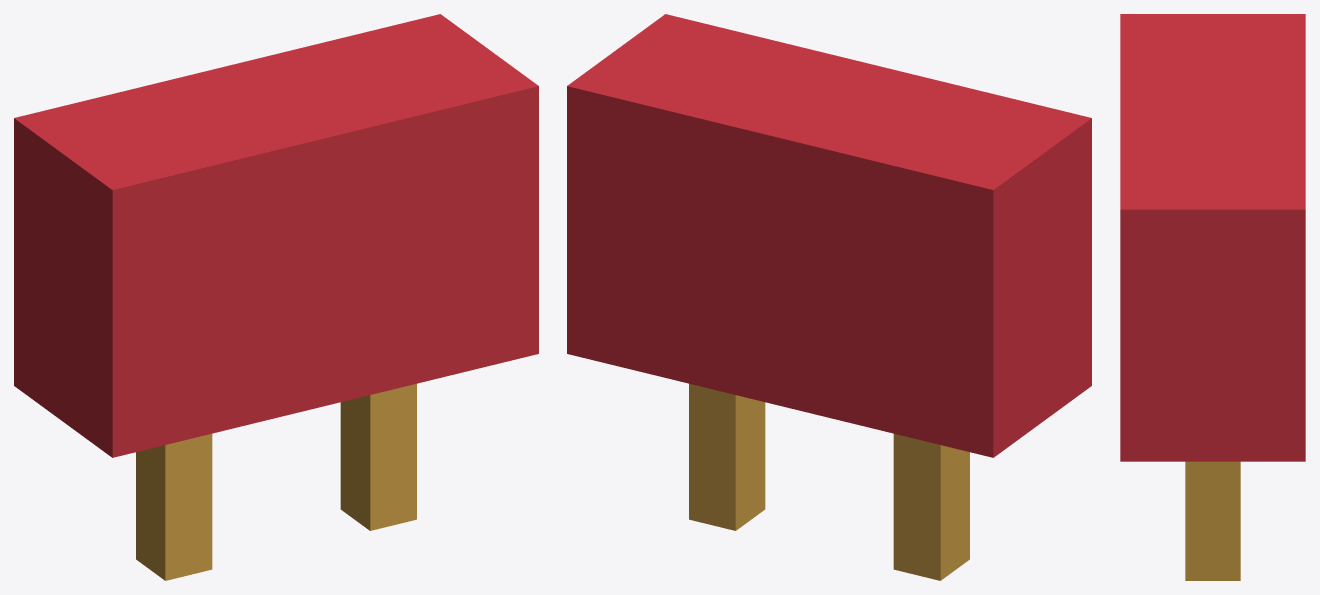
File: 124_L109_W165_TrustedThermalJumper.fbx
3 views of the same model, side by side, from view 1: azimuth 30°, elevation 25°; view 2: azimuth 150°, elevation 25°; view 3: azimuth 270°, elevation 25° (orthographic). The views are drawn at different scales.
Visible parts, largest first — view 1: L109_W165_TrustedThermalJumper_RED, L109_W165_TrustedThermalJumper_GOLD; view 2: L109_W165_TrustedThermalJumper_RED, L109_W165_TrustedThermalJumper_GOLD; view 3: L109_W165_TrustedThermalJumper_RED, L109_W165_TrustedThermalJumper_GOLD.
Part boxes in pixels (left/top/right/bottom): L109_W165_TrustedThermalJumper_RED: left=14, top=14, right=538, bottom=457; L109_W165_TrustedThermalJumper_GOLD: left=136, top=383, right=416, bottom=580; L109_W165_TrustedThermalJumper_RED: left=567, top=14, right=1091, bottom=457; L109_W165_TrustedThermalJumper_GOLD: left=689, top=383, right=969, bottom=580; L109_W165_TrustedThermalJumper_RED: left=1120, top=14, right=1305, bottom=461; L109_W165_TrustedThermalJumper_GOLD: left=1185, top=461, right=1240, bottom=580.
Bounding box in the file's own units: 5 × 2 × 4.9.
